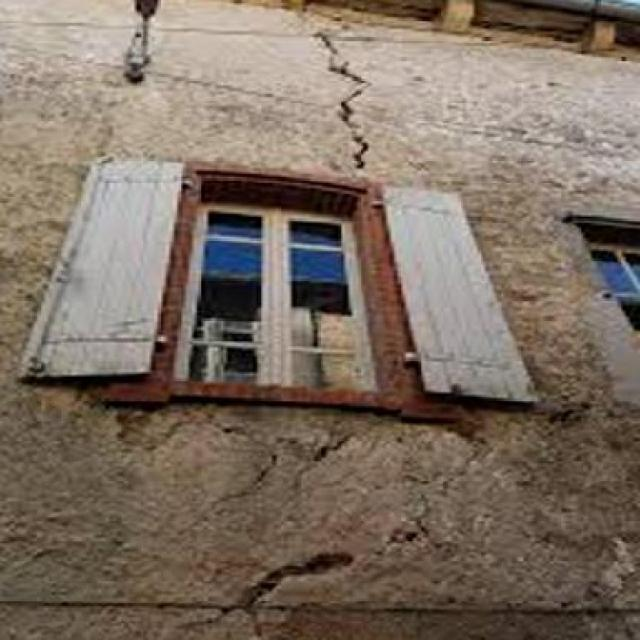Crack: (294, 21, 387, 177)
